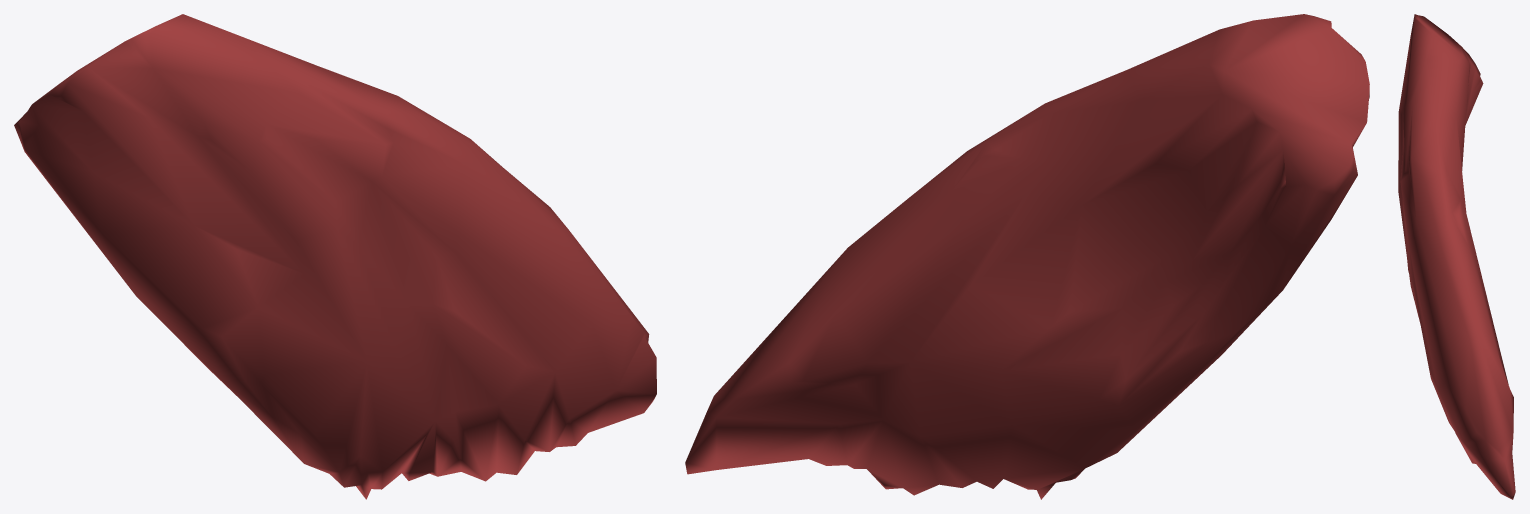
Rendered from rectus-anterior-capitis-muscle-l.glb.
3 renders of one model, left to right at view 1: azimuth 30°, elevation 25°; view 2: azimuth 150°, elevation 25°; view 3: azimuth 270°, elevation 25°, orthographic. The views are drawn at different scales.
Visible parts, largest first — view 1: Rectus anterior capitis muscle.l; view 2: Rectus anterior capitis muscle.l; view 3: Rectus anterior capitis muscle.l.
Boxes of the visible parts, x1,y1,x2,y2 form: Rectus anterior capitis muscle.l: (14,14,656,499); Rectus anterior capitis muscle.l: (685,14,1369,499); Rectus anterior capitis muscle.l: (1398,14,1515,499).
Bounding box in the file's own units: 0.025 × 0.0204 × 0.00669.
